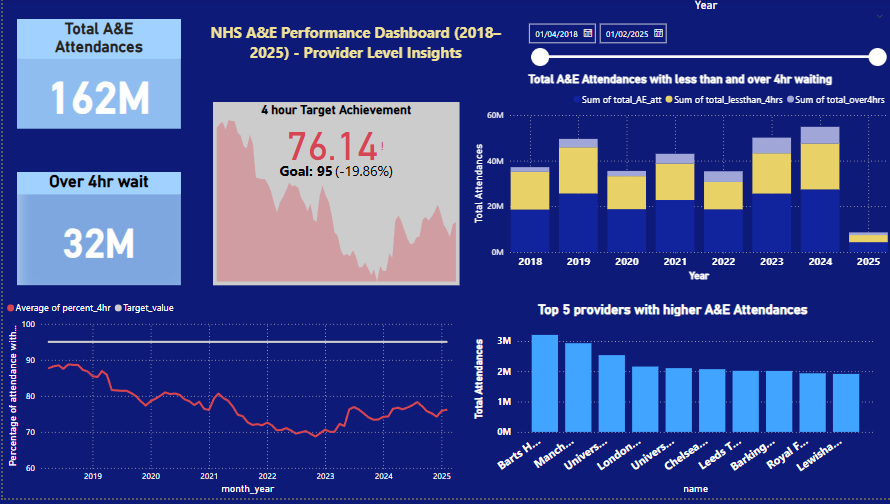

What the dashboard file says about the page in this screenshot:
{"tool":"powerbi","page":{"name":"NHS_Analysis","canvas":[1280,720],"ordinal":0},"visuals":[{"type":"card","title":"Total A&E Attendances","fields":{"Values":["Sum(nhs_analysis nhs_ae_monthly_data2018_2025.total_AE_att)"]},"box":[20.2,30.2,236.2,158.4],"z":0},{"type":"card","title":"Over 4hr wait ","fields":{"Values":["Sum(nhs_analysis nhs_ae_monthly_data2018_2025.total_over4hrs)"]},"box":[20.2,250.6,236.2,162.7],"z":1000},{"type":"kpi","title":" 4 hour Target Achievement","fields":{"TrendLine":["nhs_analysis nhs_ae_monthly_data2018_2025.month_year"],"Goal":["Hospitals greater 12hr wait.Target_value"],"Indicator":["Avg(nhs_analysis nhs_ae_monthly_data2018_2025.percent_4hr)"]},"box":[301.8,149.2,354.8,263.6],"z":2000},{"type":"lineChart","title":"Number of patients with over 4hr and 12 hr wait time","fields":{"Category":["nhs_analysis nhs_ae_monthly_data2018_2025.month_year"],"Y":["Avg(nhs_analysis nhs_ae_monthly_data2018_2025.percent_4hr)","Hospitals greater 12hr wait.Target_value"]},"box":[0,426.2,656.6,293.8],"z":3000},{"type":"slicer","title":"Year","fields":{"Values":["nhs_analysis nhs_ae_monthly_data2018_2025.month_year"]},"box":[744.5,0,535.5,122.7],"z":4000},{"type":"columnChart","title":"Top 5 providers with higher A&E Attendances","fields":{"Category":["Top5providers_attendances.name"],"Y":["Sum(Top5providers_attendances.Total_att)"]},"box":[671.5,436.1,586.9,283.5],"z":5000},{"type":"columnChart","title":"Total A&E Attendances with less than and over 4hr waiting","fields":{"Category":["nhs_analysis nhs_ae_monthly_data2018_2025.month_year.Variation.Date Hierarchy.Year"],"Y":["Sum(nhs_analysis nhs_ae_monthly_data2018_2025.total_AE_att)","Sum(nhs_analysis nhs_ae_monthly_data2018_2025.total_lessthan_4hrs)","Sum(nhs_analysis nhs_ae_monthly_data2018_2025.total_over4hrs)"]},"box":[671.5,106.1,608.5,306.7],"z":6000},{"type":"textbox","box":[270.3,29.8,474.2,92.8],"z":7000}]}

Visuals, with their boxes in screenshot pixels (x1, y1, x2, y2), scaled from the page's 1280x720 canvas onto the 890x504 screenshot:
"Total A&E Attendances" card: <bbox>14, 21, 178, 132</bbox>
"Over 4hr wait " card: <bbox>14, 175, 178, 289</bbox>
" 4 hour Target Achievement" kpi: <bbox>210, 104, 457, 289</bbox>
"Number of patients with over 4hr and 12 hr wait time" lineChart: <bbox>0, 298, 457, 503</bbox>
"Year" slicer: <bbox>518, 0, 889, 86</bbox>
"Top 5 providers with higher A&E Attendances" columnChart: <bbox>467, 305, 875, 503</bbox>
"Total A&E Attendances with less than and over 4hr waiting" columnChart: <bbox>467, 74, 889, 289</bbox>
textbox: <bbox>188, 21, 518, 86</bbox>
